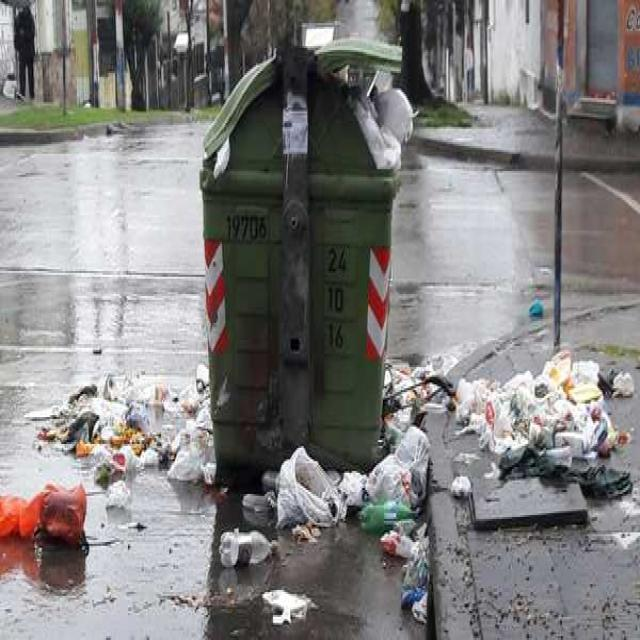garbage: (478, 349, 639, 536), (84, 346, 206, 486), (271, 438, 427, 527), (0, 465, 89, 567), (347, 67, 417, 169), (381, 356, 454, 434), (379, 530, 430, 628), (31, 375, 82, 471), (236, 584, 328, 627), (205, 520, 278, 574), (520, 298, 548, 336)
